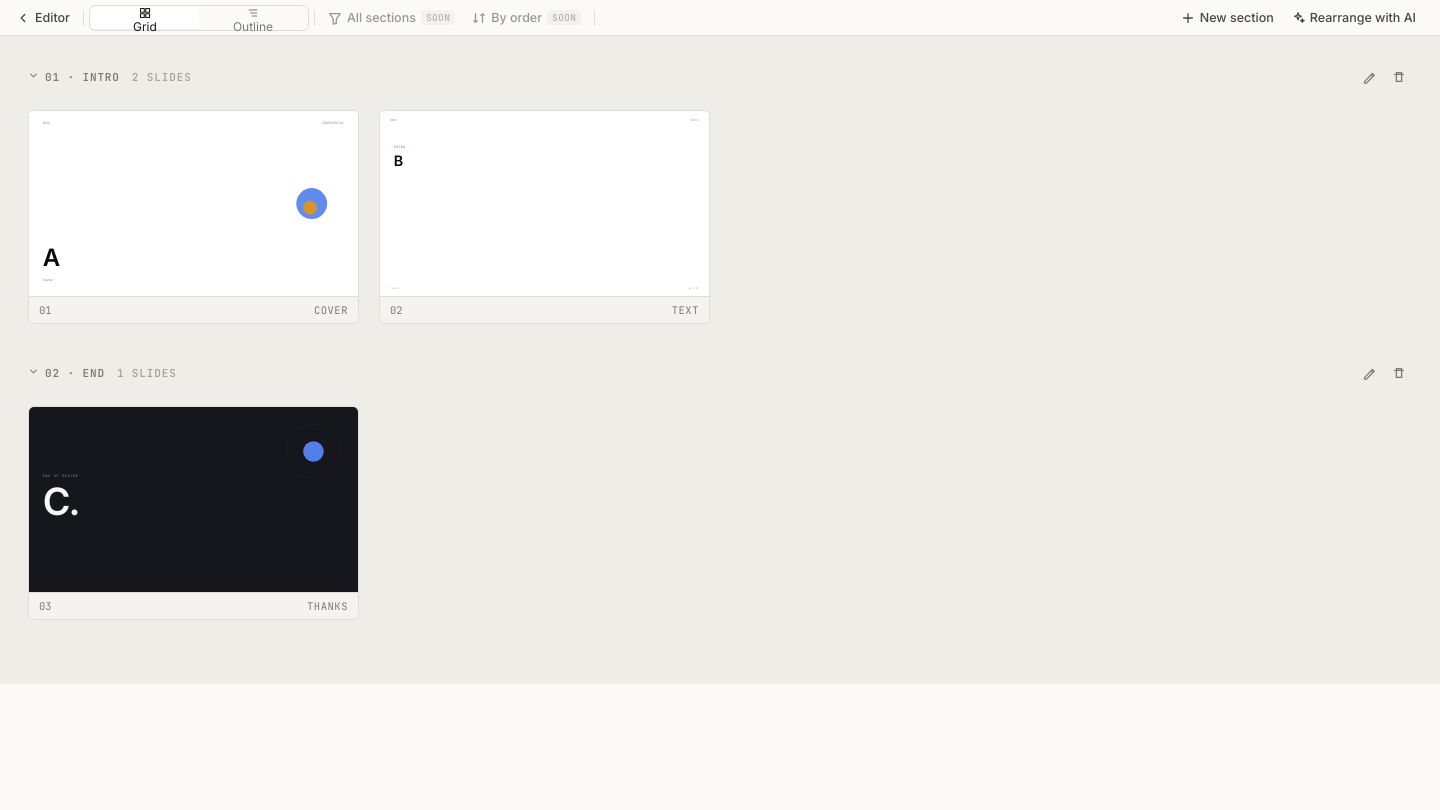
Test: SorterView — section CRUD › cancels a rename on Escape without committing
This screenshot has width=1440, height=810.
Click the 1st button titled "Rename section". click: (1369, 77)
box: [1356,64,1382,90]
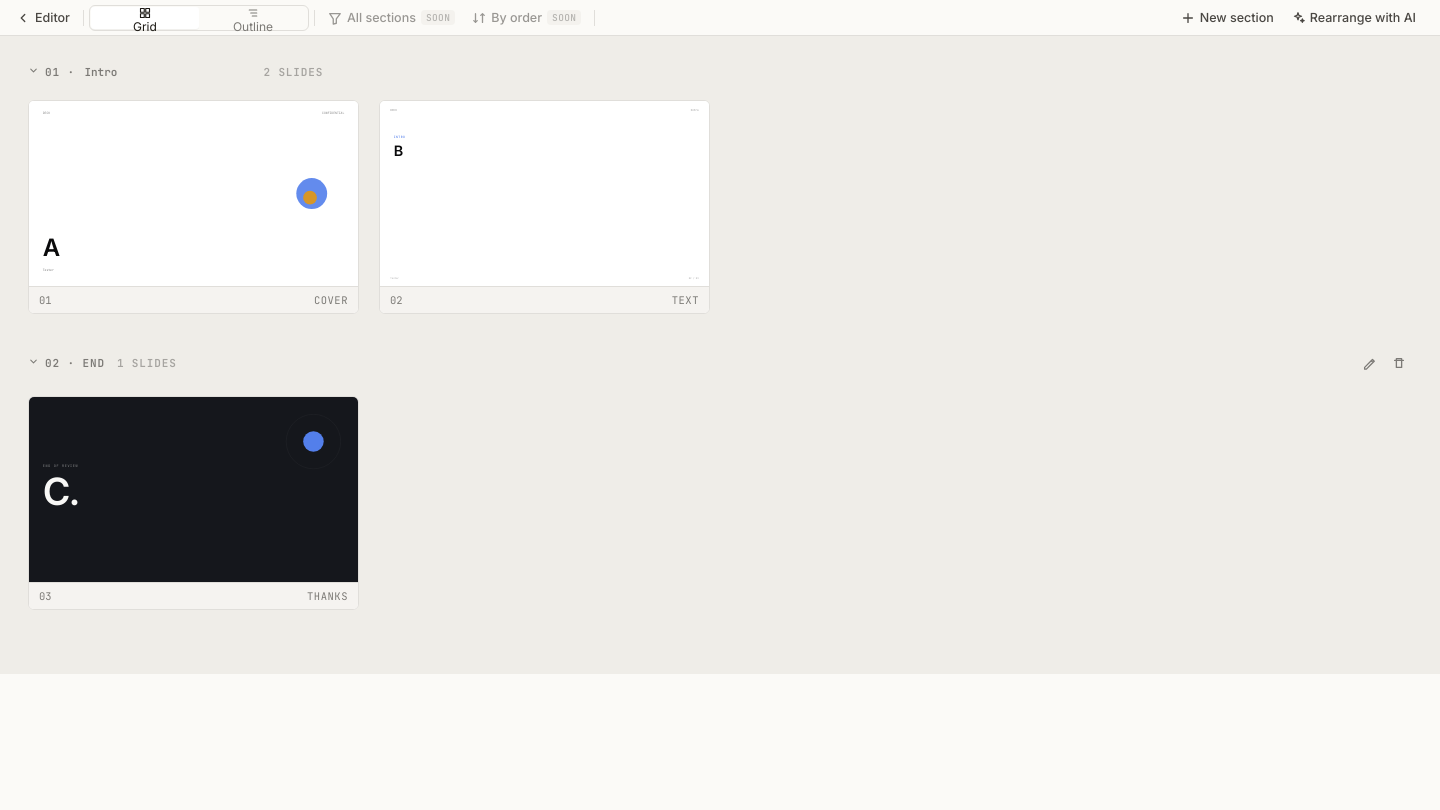
Replace the text in the field with class "sorter-rename" with "Discarded". click: (167, 72)
box: [82,64,251,80]
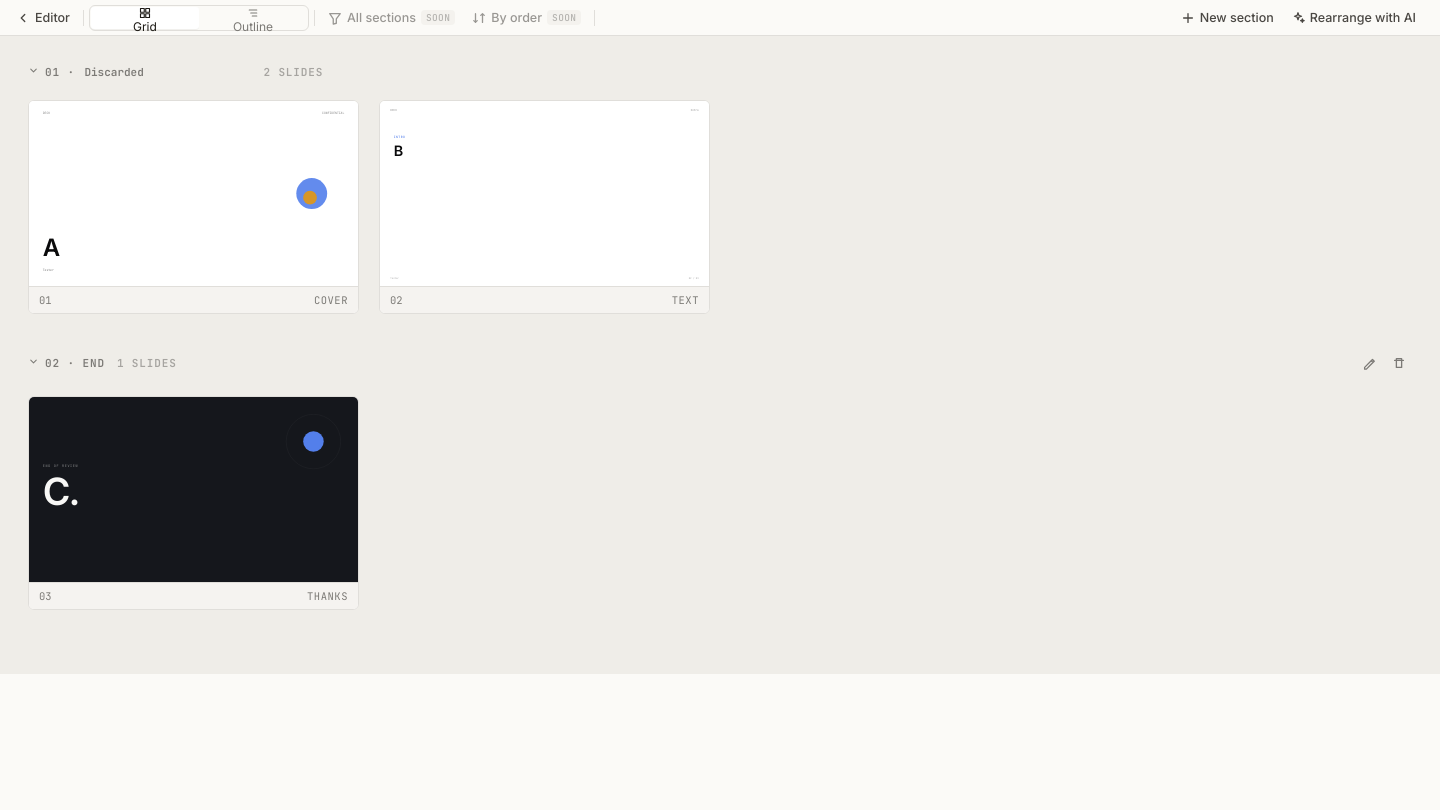
Press Escape in the field with class "sorter-rename", box [82,64,251,80]
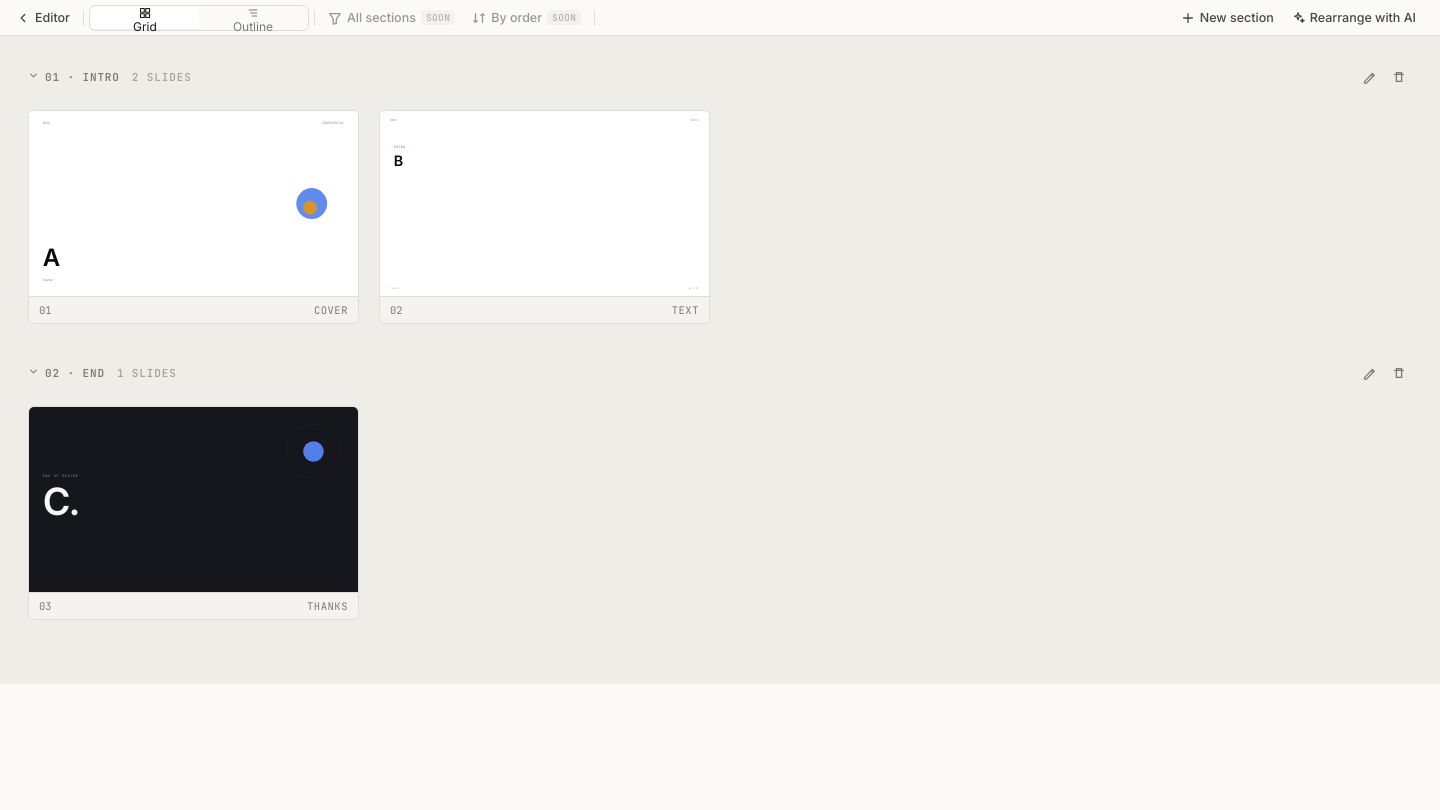
Now the field with class "sorter-rename" is gone
